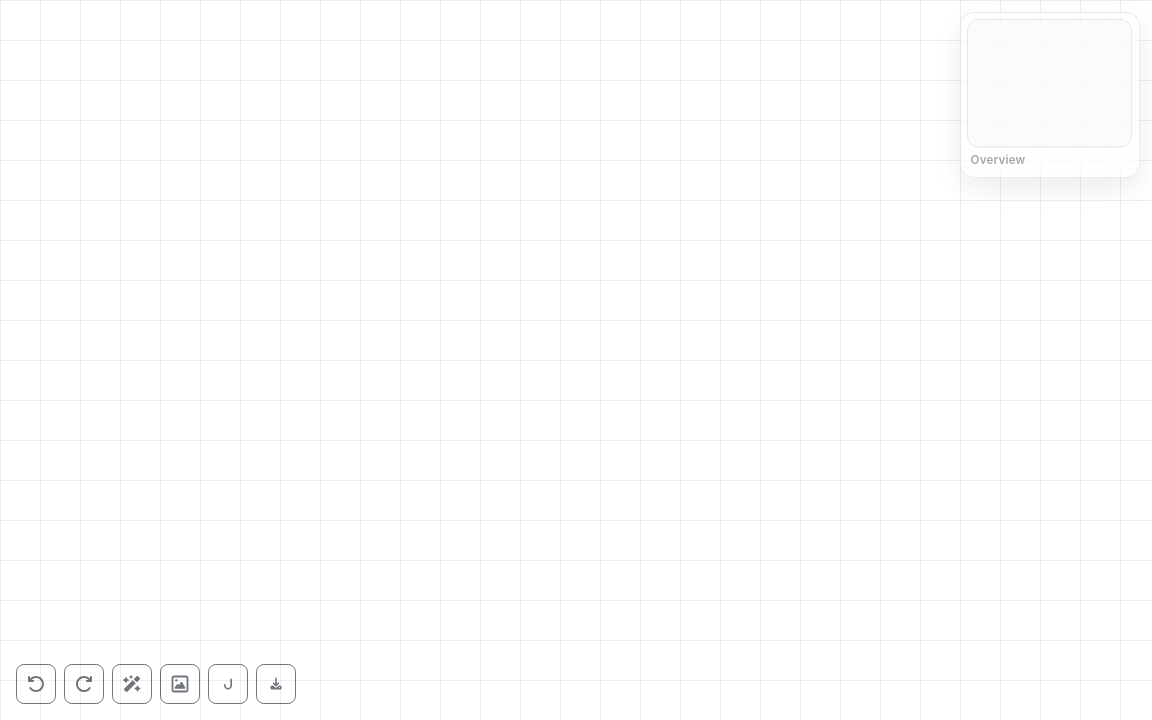
MapCanvas export flow › shows an export region overlay only in region mode
The width and height of the screenshot is (1152, 720).
Click the button named "Export PNG". click: (276, 684)
box: [256,664,296,704]
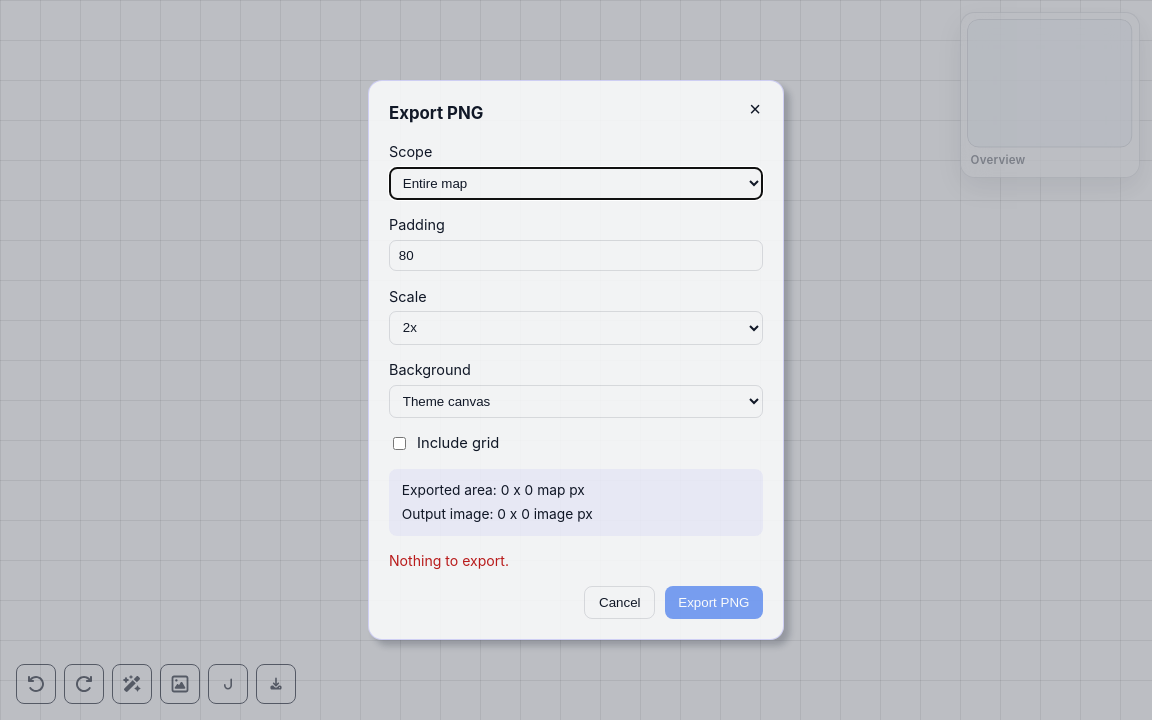
Select "Region" in the dropdown labelled "Scope". click: (576, 183)
box: [389,166,763,200]
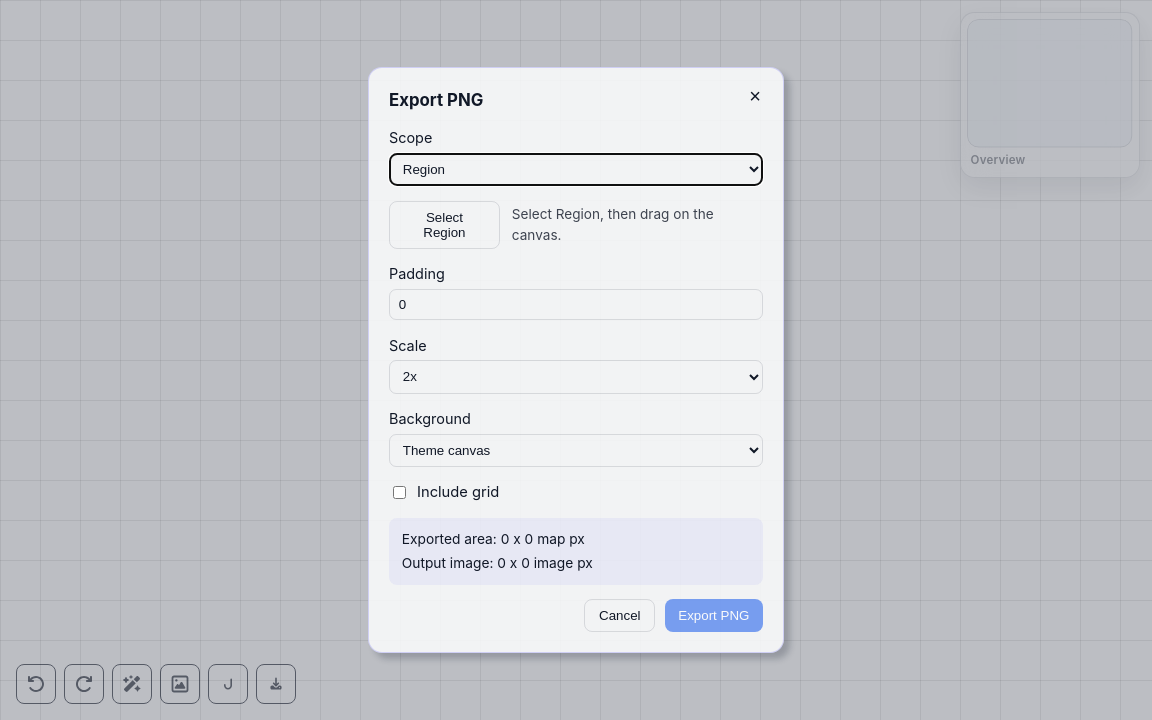
Click the button "Select Region". click: (444, 225)
box: [389,201,500,249]
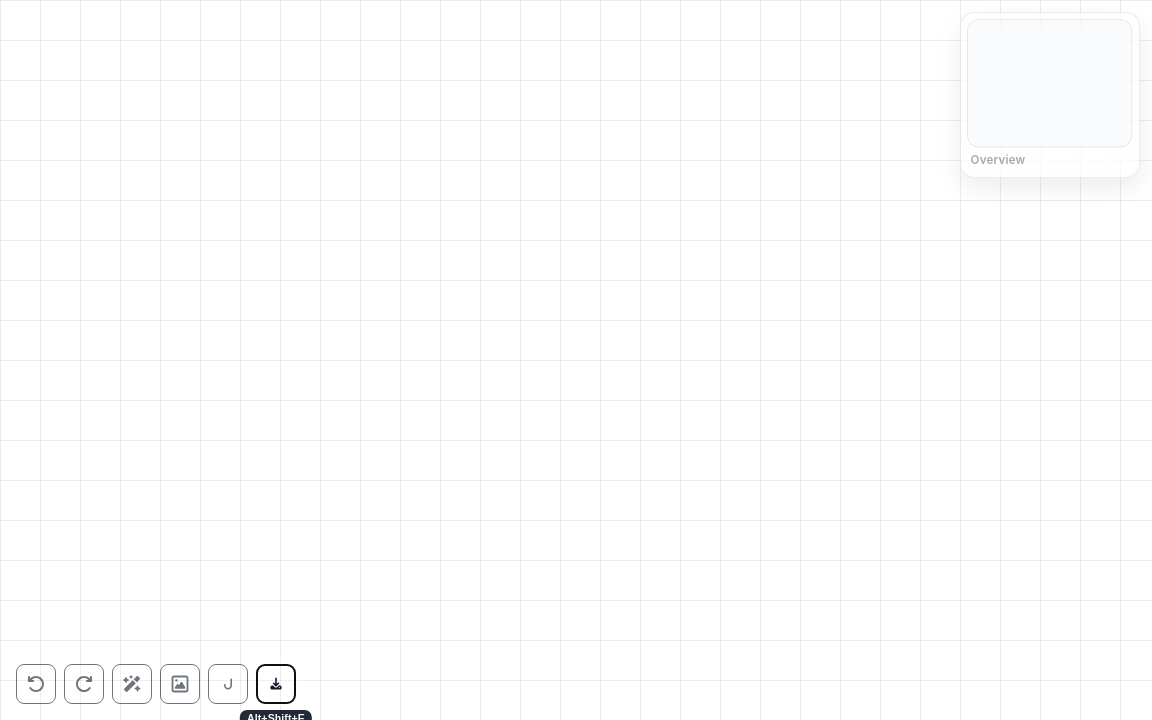
Expected: the dialog with test id "export-png-dialog" is gone
Press the mouse on the element with test id "map-canvas" at (576, 360), box [0,0,1151,719]
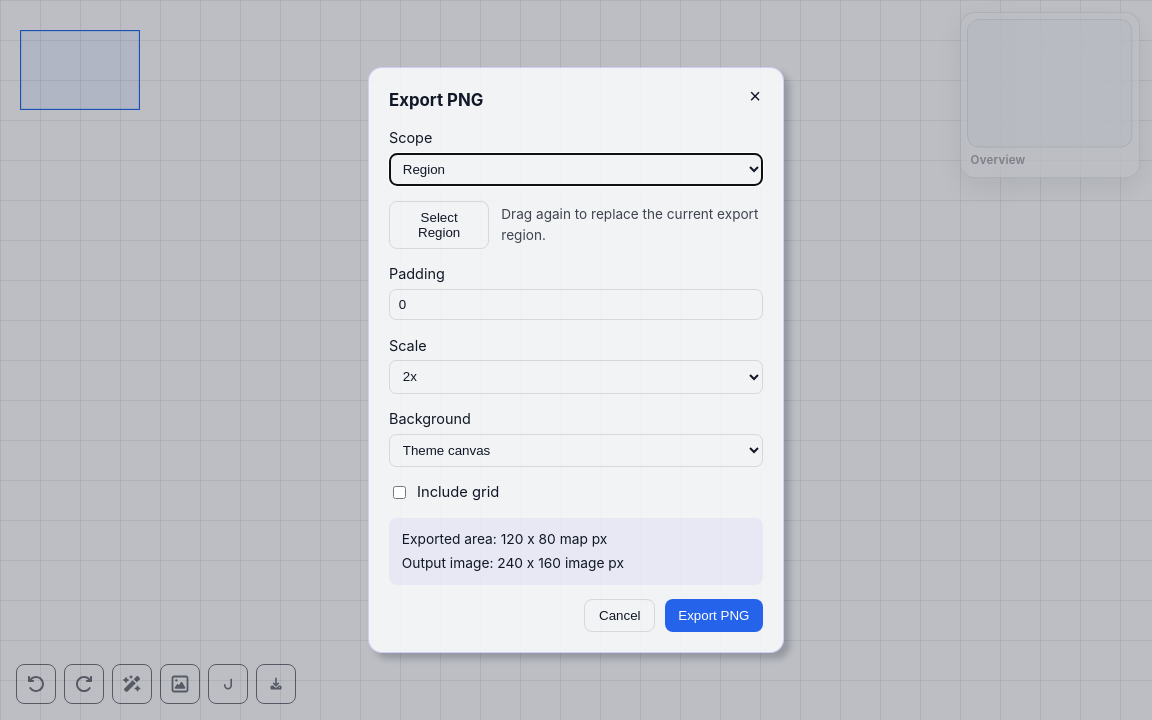
Expected: the dialog with test id "export-png-dialog" is shown, [368,67,784,653]
Expected: the element with test id "map-canvas-export-region" is shown, [20,30,140,110]
